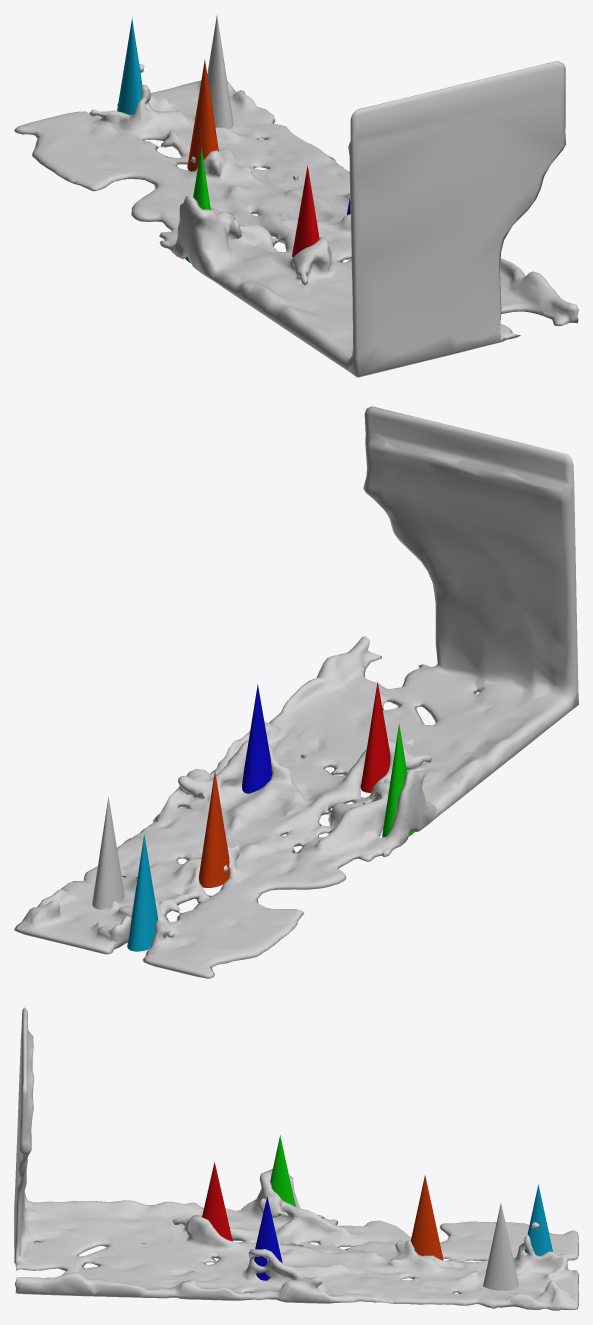
3 views of the same model, one above another, from view 1: azimuth 30°, elevation 25°; view 2: azimuth 150°, elevation 25°; view 3: azimuth 270°, elevation 25° (orthographic). The views are drawn at different scales.
Parts seen in each view (by area): view 1: Liquid_Domain, 円錐, 円錐.004, 円錐.005, 円錐.001, 円錐.003; view 2: Liquid_Domain, 円錐.004, 円錐.005, 円錐, 円錐.002, 円錐.001, 円錐.003; view 3: Liquid_Domain, 円錐, 円錐.004, 円錐.001, 円錐.002, 円錐.005, 円錐.003.
Boxes of the visible parts, x1=… form: Liquid_Domain: x1=14, y1=61, x2=578, y2=377; 円錐: x1=207, y1=15, x2=233, y2=129; 円錐.004: x1=187, y1=59, x2=218, y2=171; 円錐.005: x1=117, y1=18, x2=142, y2=114; 円錐.001: x1=292, y1=166, x2=319, y2=257; 円錐.003: x1=185, y1=147, x2=210, y2=263; Liquid_Domain: x1=14, y1=406, x2=578, y2=978; 円錐.004: x1=199, y1=771, x2=229, y2=887; 円錐.005: x1=127, y1=834, x2=157, y2=951; 円錐: x1=92, y1=796, x2=124, y2=909; 円錐.002: x1=242, y1=684, x2=272, y2=793; 円錐.001: x1=360, y1=682, x2=390, y2=792; 円錐.003: x1=382, y1=723, x2=414, y2=837; Liquid_Domain: x1=14, y1=1007, x2=578, y2=1310; 円錐: x1=483, y1=1203, x2=518, y2=1290; 円錐.004: x1=411, y1=1175, x2=443, y2=1260; 円錐.001: x1=202, y1=1162, x2=232, y2=1241; 円錐.002: x1=254, y1=1196, x2=282, y2=1280; 円錐.005: x1=525, y1=1184, x2=552, y2=1256; 円錐.003: x1=270, y1=1135, x2=295, y2=1206.
Bounding box in the file's own units: 129 × 157 × 361.
